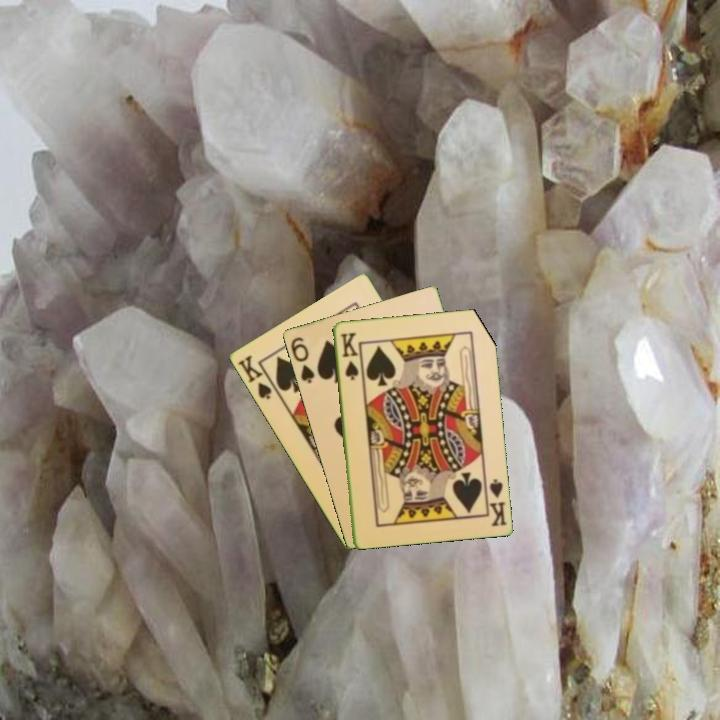6s: (287, 333, 317, 386)
Ks: (233, 351, 280, 402), (481, 474, 509, 529), (336, 329, 361, 382)
